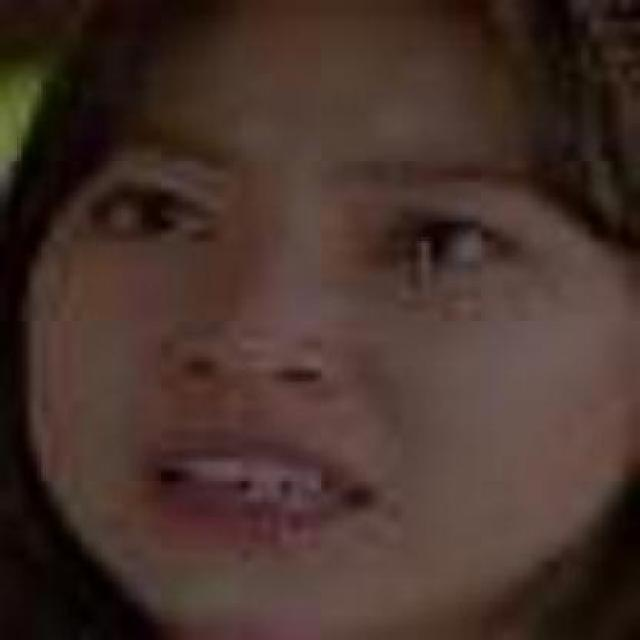angry: (59, 112, 562, 580)
